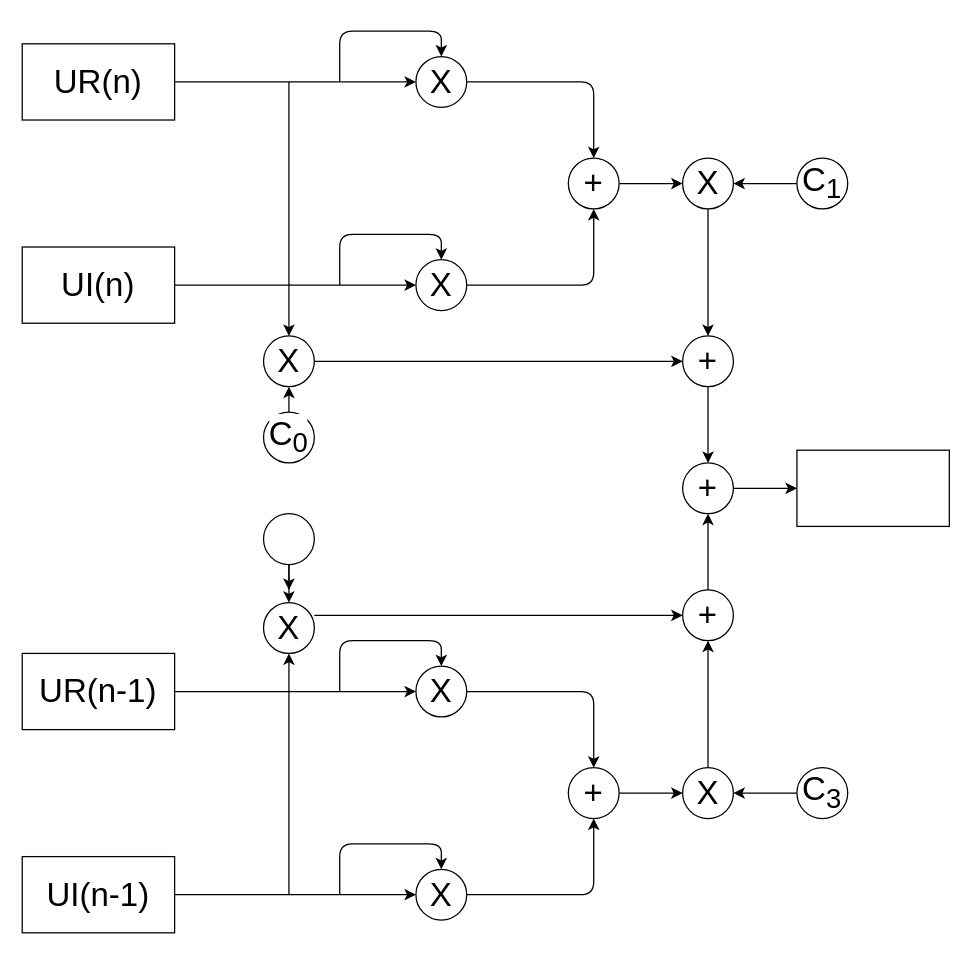
Image size: 972x955. Some labels were removed from this diagram. The box of each missing label's shape, as (x1, y1, x2, y2) in pixels:
C 2: (262, 512, 314, 565)
XR XI: (796, 449, 949, 526)
